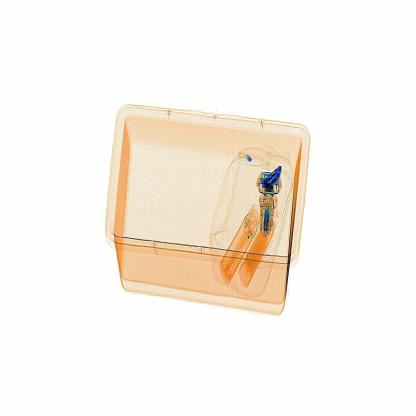knife: (257, 162, 292, 194)
